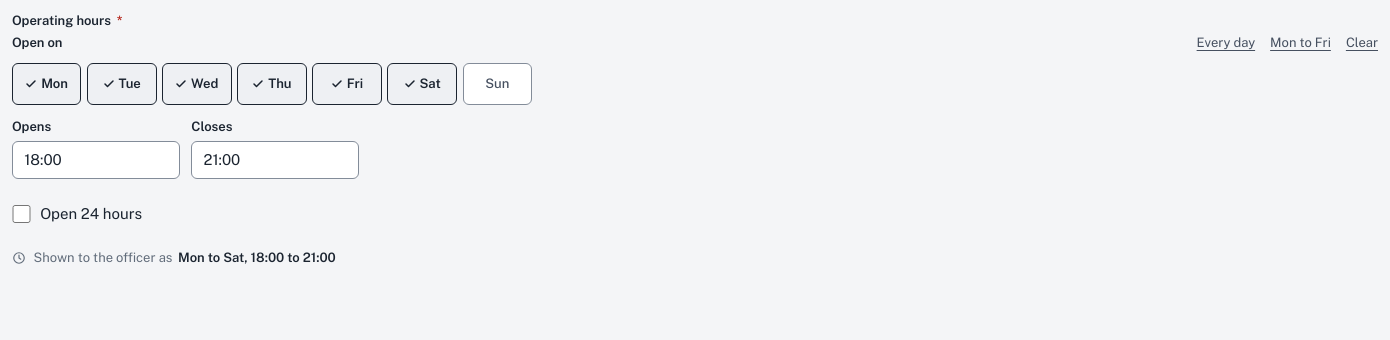
Test: HoursField › says when the shop closes after midnight
The width and height of the screenshot is (1390, 340).
expect the text "Closes after midnight" is not shown: met
Step 1. Select "02:00" in the dropdown labelled "Closes" → (275, 160), box [191,141,359,179]
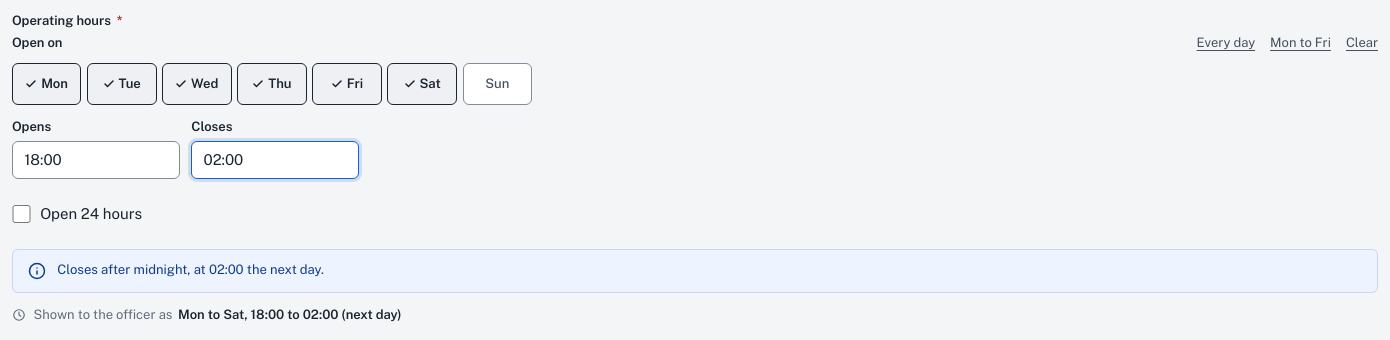
expect the text "Closes after midnight, at 02:00 the next day." is shown: met, box [57,262,324,277]
expect the text "Mon to Sat, 18:00 to 02:00 (next day)" is shown: met, box [178,306,402,324]
